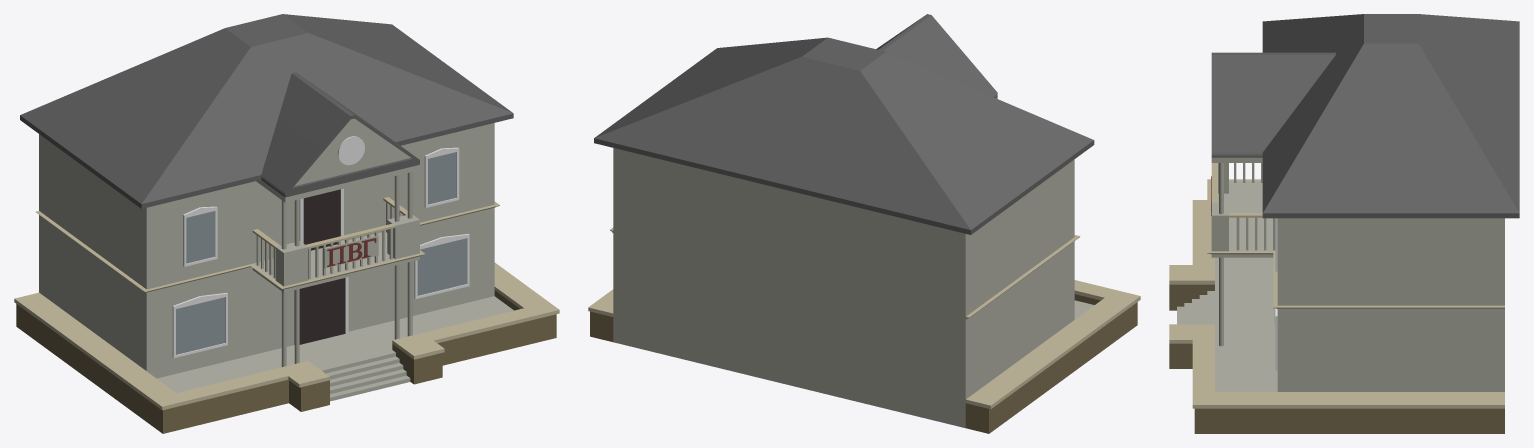
File: FratHouse_2_Textured.fbx
The picture shows the model from 3 angles, left to right: view 1: azimuth 30°, elevation 25°; view 2: azimuth 150°, elevation 25°; view 3: azimuth 270°, elevation 25°; orthographic projection. The views are drawn at different scales.
Visible parts, largest first — view 1: pCube78, pCube22, pCube1, pCube74, pCube2, pCube13, pCube122, pCube21, pCube128, pCube12, pCube133, pCube132 (+21 smaller); view 2: pCube78, pCube1, pCube22, pCube2, pCube13, pCube122, pCube74, pCube21, pCube124, pCube14, pCube114; view 3: pCube78, pCube22, pCube1, pCube74, pCube14, pCube2, pCube121, pCube21, pCube120, pCube124, pCube123, pCube118 (+5 smaller).
Part boxes in pixels (box(x1,y1,x2,y2)): pCube78: box(20, 14, 513, 208); pCube22: box(39, 123, 494, 289); pCube1: box(39, 211, 494, 378); pCube74: box(261, 72, 419, 197); pCube2: box(157, 296, 513, 392); pCube13: box(16, 304, 185, 433); pCube122: box(14, 292, 175, 402); pCube21: box(39, 207, 494, 295); pCube128: box(299, 278, 345, 344); pCube12: box(186, 380, 288, 428); pCube133: box(176, 297, 225, 354); pCube132: box(417, 238, 466, 295); pCube78: box(594, 37, 1094, 234); pCube1: box(613, 237, 1074, 409); pCube22: box(613, 97, 1074, 316); pCube2: box(613, 300, 1094, 427); pCube13: box(965, 302, 1137, 433); pCube122: box(965, 298, 1129, 409); pCube74: box(876, 14, 997, 98); pCube21: box(613, 231, 1074, 322); pCube124: box(1074, 280, 1140, 307); pCube14: box(590, 311, 613, 341); pCube114: box(965, 237, 1078, 319); pCube78: box(1262, 14, 1519, 218); pCube22: box(1211, 157, 1504, 305); pCube1: box(1277, 312, 1504, 391); pCube74: box(1211, 52, 1335, 157); pCube14: box(1194, 408, 1504, 433); pCube2: box(1215, 257, 1277, 391); pCube121: box(1215, 392, 1504, 408); pCube21: box(1211, 181, 1504, 312); pCube120: box(1192, 340, 1214, 408); pCube124: box(1192, 200, 1214, 264); pCube123: box(1169, 265, 1214, 284); pCube118: box(1277, 305, 1504, 308).
Size of the model in its own units: 39.02 by 26.96 by 28.2.
